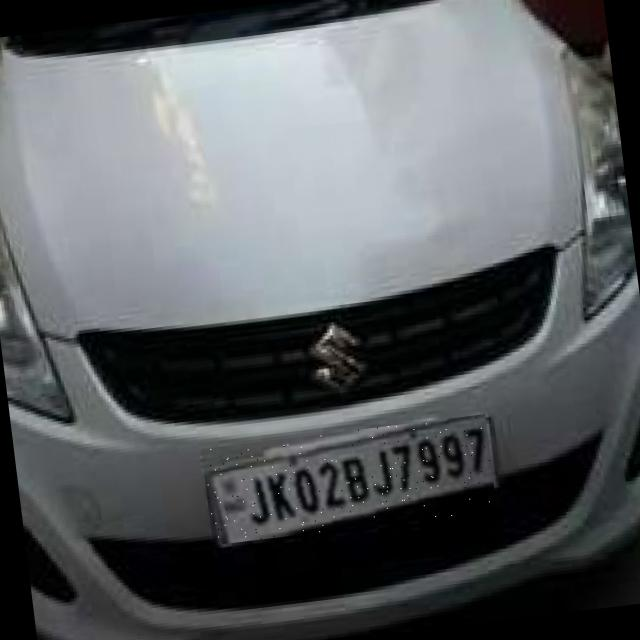Plate: (202, 415, 498, 546)
